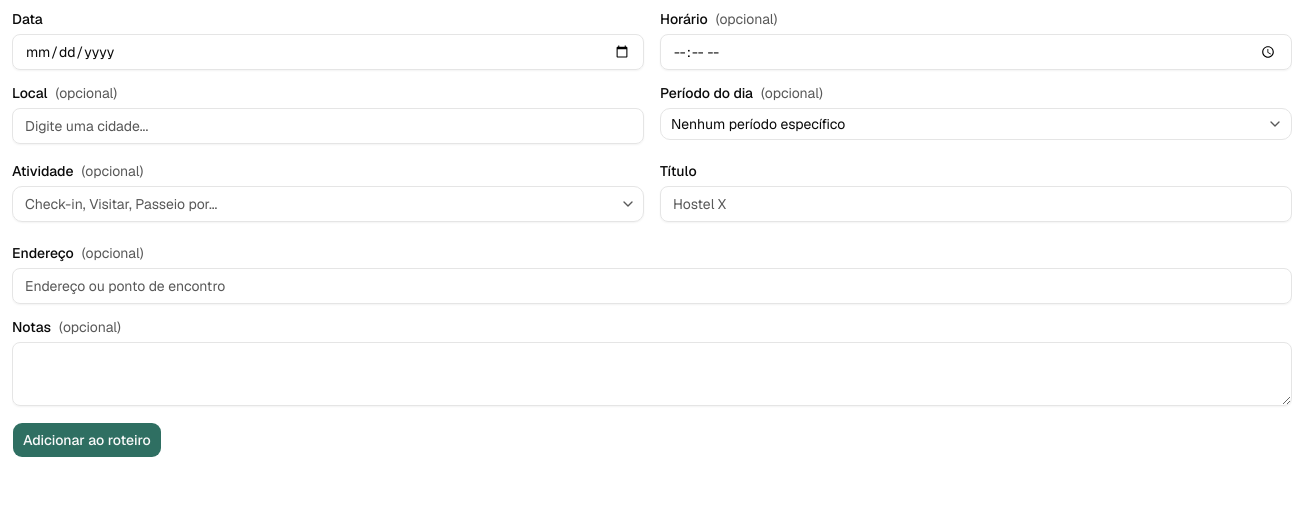
Test: ItineraryForm › shows a live preview of activity + info as the user types, joined into one title (#230/R03)
Check: the text "Museu do Louvre" is not shown
Type "Museu do Louvre" into the field with placeholder "Hostel X".
click(976, 204); type("Museu do Louvre")  # box [660,186,1292,222]
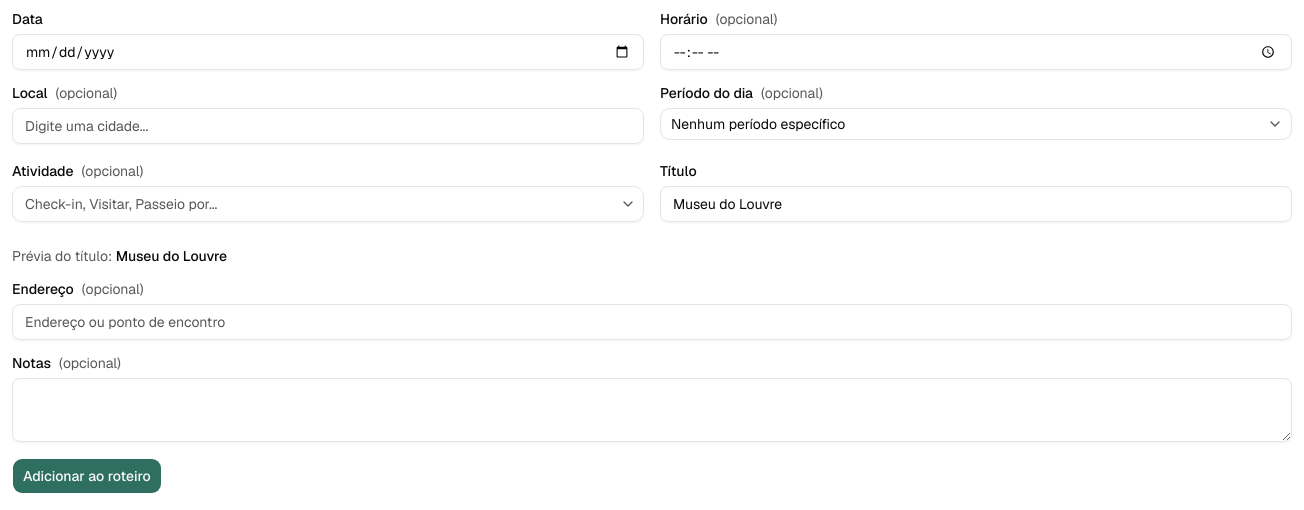
Check: the text "Museu do Louvre" is shown, box [116,247,227,265]
Type "Visitar" into the dropdown with placeholder "Check-in, Visitar, Passeio por...".
click(328, 204); type("Visitar")  # box [12,186,644,222]
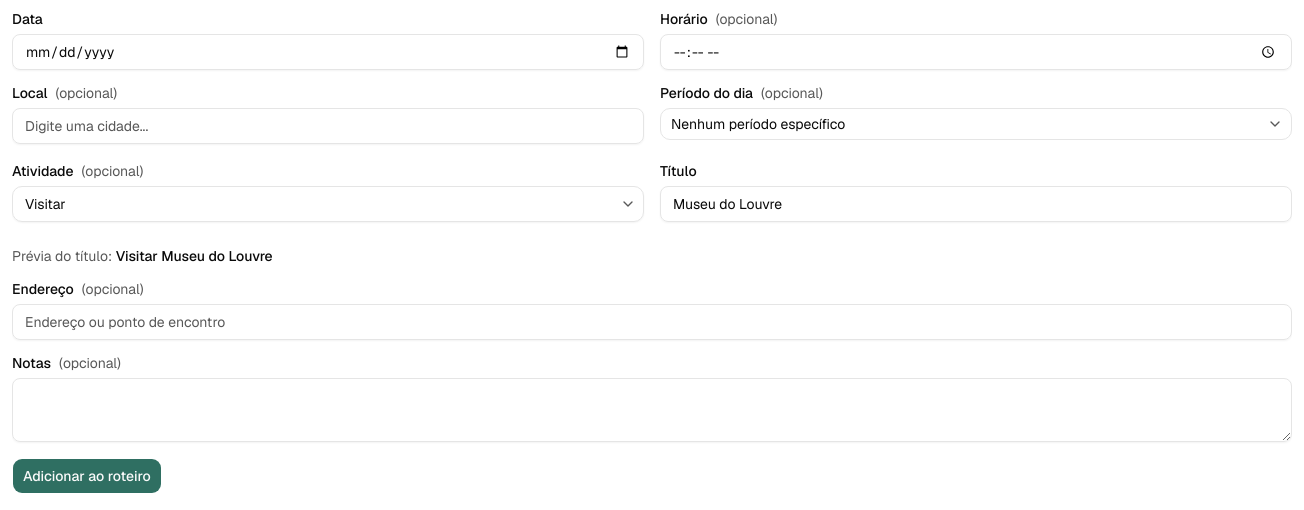
Check: the text "Visitar Museu do Louvre" is shown, box [116,247,273,265]
